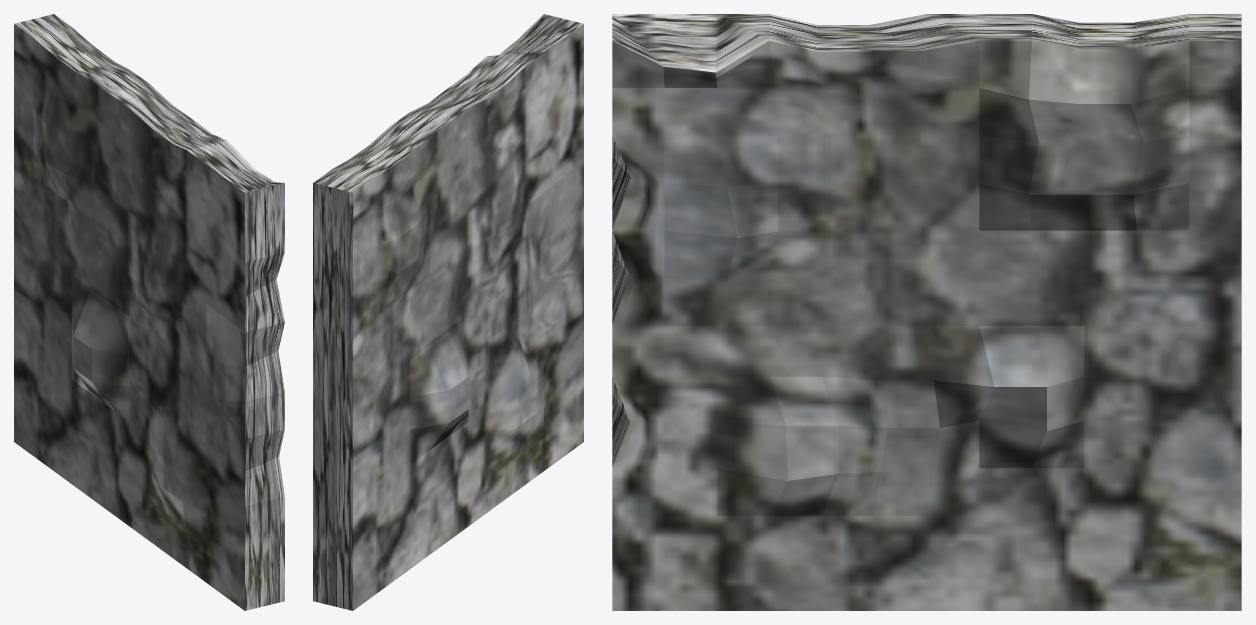
The model's file is StoneWallFinal.glb.
3 renders of one model, left to right at view 1: azimuth 30°, elevation 25°; view 2: azimuth 150°, elevation 25°; view 3: azimuth 270°, elevation 25°, orthographic. The views are drawn at different scales.
Parts seen in each view (by area): view 1: Cube; view 2: Cube; view 3: Cube.
Boxes of the visible parts, bbox=[...] form: Cube: bbox=[14, 14, 284, 610]; Cube: bbox=[313, 14, 583, 610]; Cube: bbox=[612, 14, 1241, 610].
Size of the model in its own units: 0.4 by 2 by 2.
Materials: 1 (1 with a texture image).
